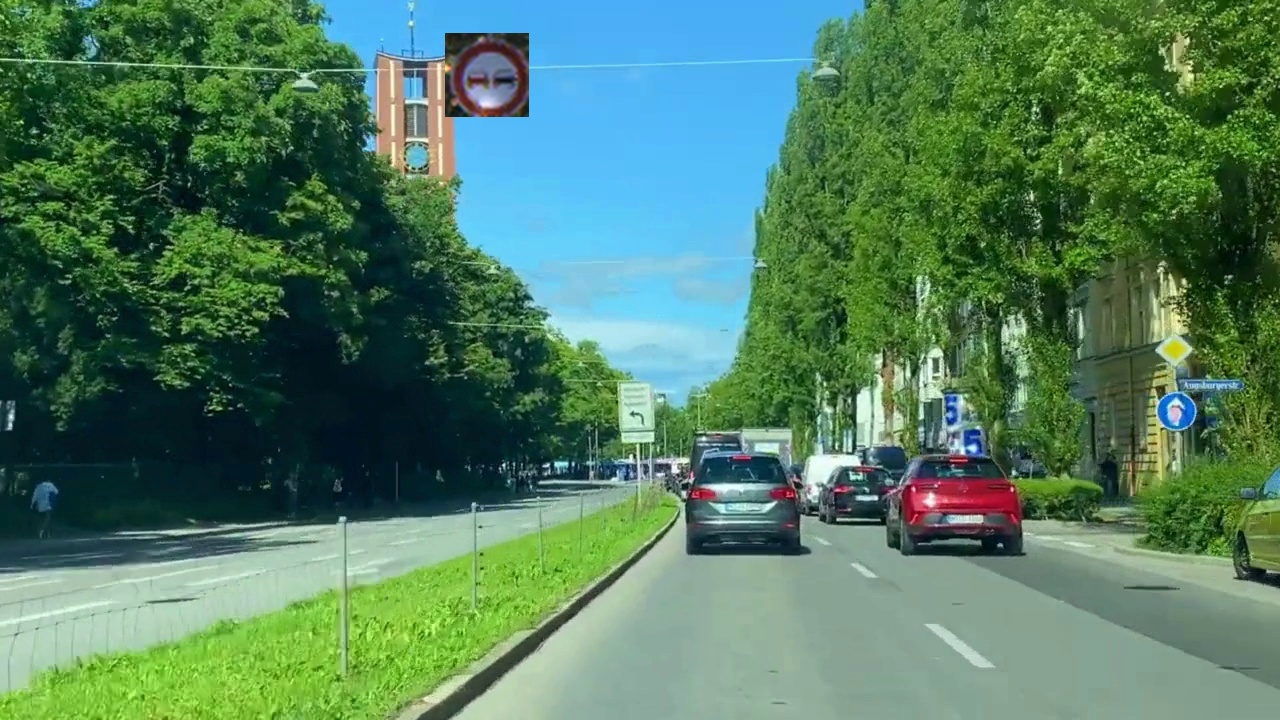No passing: (445, 33, 529, 117)
